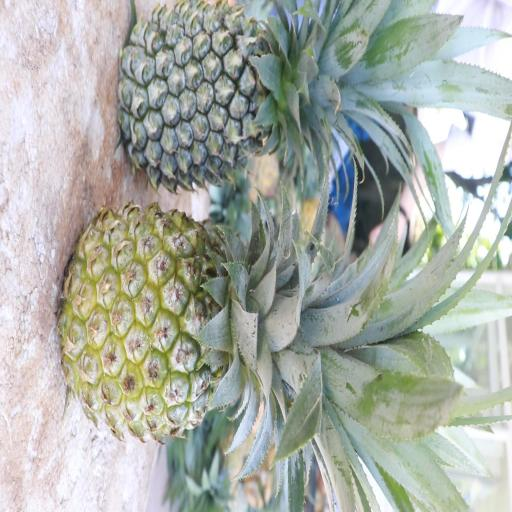------------------------------: (53, 201, 346, 448)
